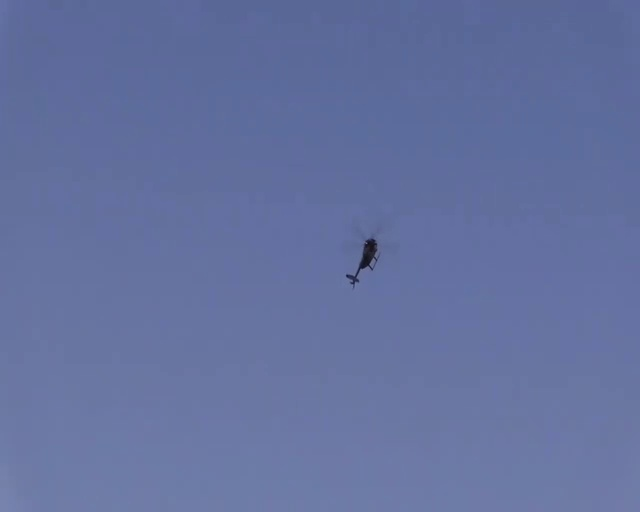HELICOPTER: (342, 215, 399, 290)
